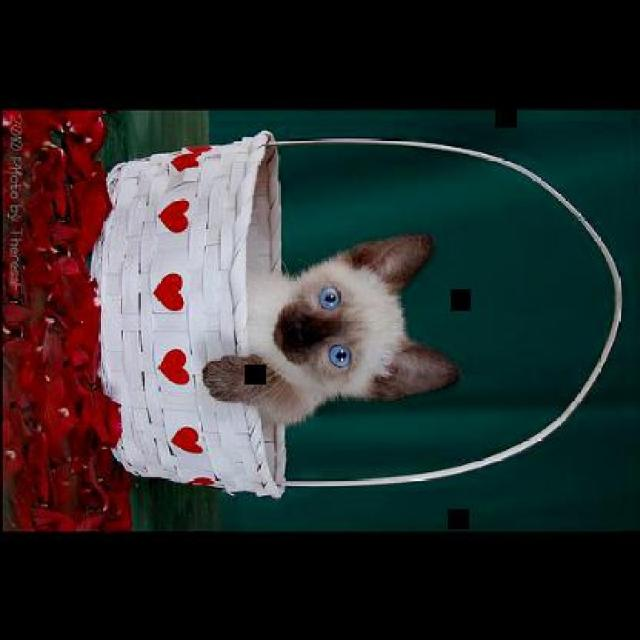unauthorized: (200, 231, 458, 429)
